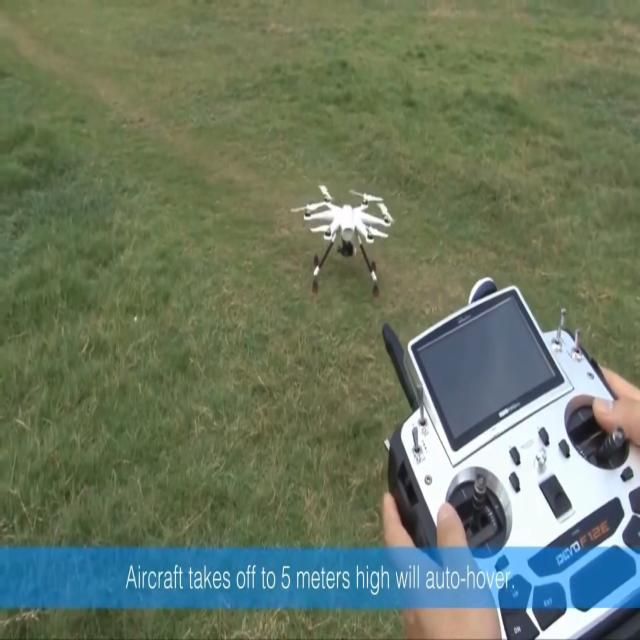drone: (290, 182, 394, 298)
